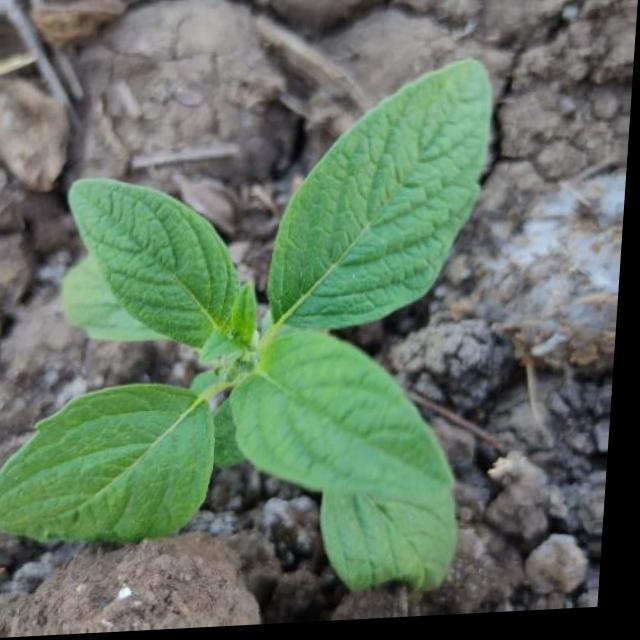crop: (0, 35, 510, 640)
